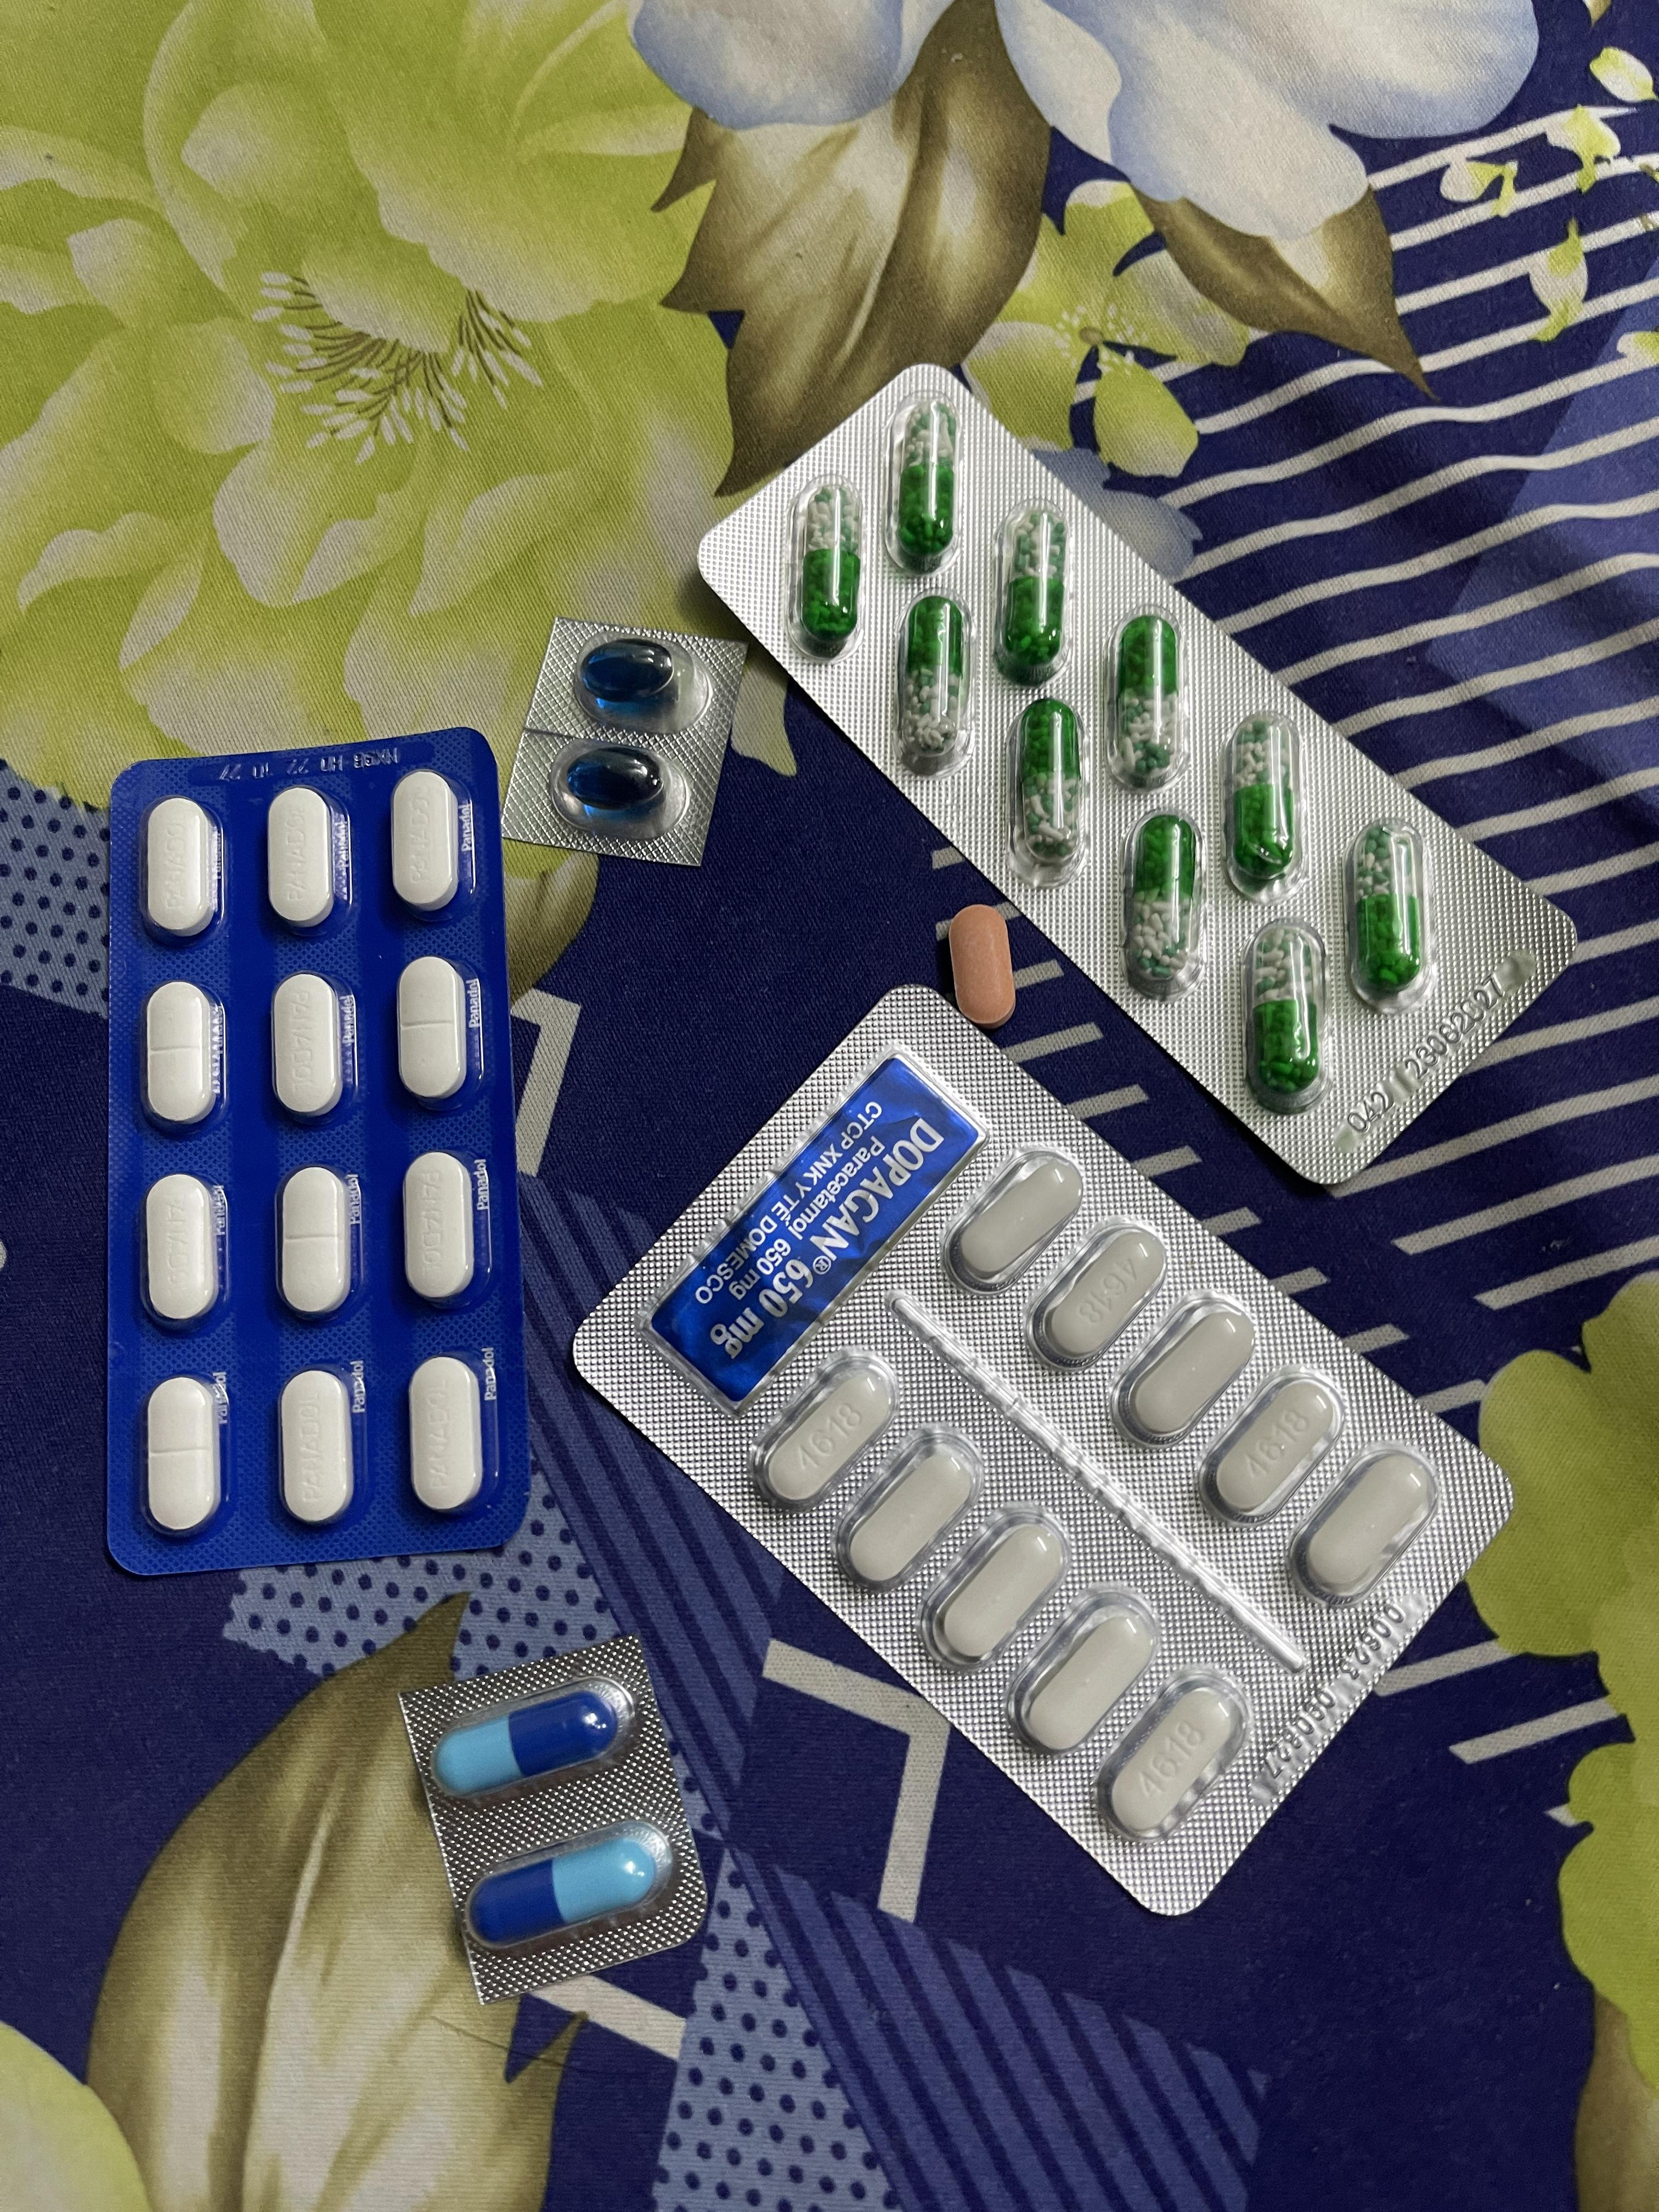Lincomyxin_500mg: (565, 751, 666, 812), (580, 639, 674, 704)
Loratadine_10mg: (948, 904, 1016, 1029)
Paracetamol_350mg: (145, 1376, 223, 1536), (408, 1357, 486, 1517), (143, 1172, 223, 1327), (277, 1163, 354, 1318), (279, 1371, 354, 1529), (143, 981, 221, 1130), (403, 1151, 477, 1305), (397, 956, 471, 1109), (272, 972, 347, 1120), (143, 796, 218, 939), (267, 786, 336, 925), (390, 770, 462, 900)
Paracetamol_500mg: (1000, 1580, 1157, 1754), (828, 1420, 985, 1592), (920, 1505, 1075, 1676), (1290, 1446, 1445, 1611), (755, 1348, 897, 1514), (1199, 1367, 1347, 1524), (1112, 1292, 1258, 1447), (1026, 1217, 1166, 1371), (945, 1146, 1084, 1294), (1108, 1688, 1236, 1836)
Paracetamol_650mg: (1349, 819, 1434, 1007), (1122, 813, 1206, 995), (995, 510, 1072, 693), (1223, 718, 1302, 892), (1110, 610, 1187, 786), (789, 479, 863, 657), (899, 597, 971, 768), (1251, 930, 1321, 1096), (896, 401, 957, 571), (1019, 705, 1084, 855)
pill: (469, 1824, 674, 1951), (430, 1684, 633, 1799)
